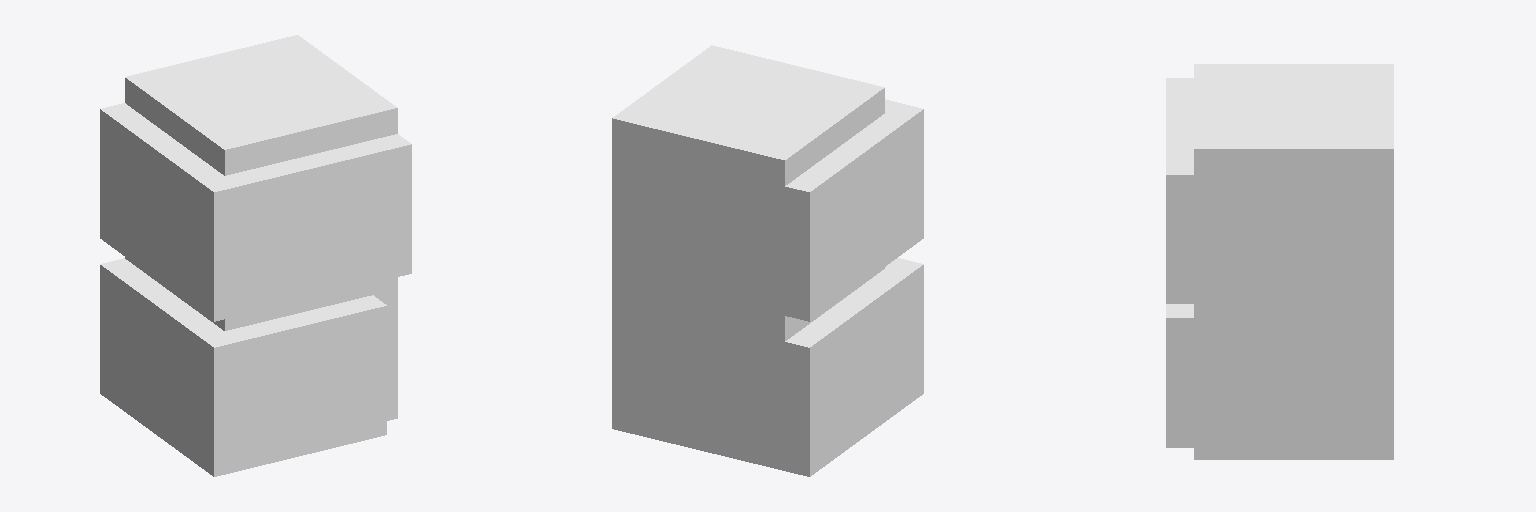
Rendered from stoneWallCornerTip-0.obj.
The picture shows the model from 3 angles: view 1: azimuth 30°, elevation 25°; view 2: azimuth 150°, elevation 25°; view 3: azimuth 270°, elevation 25°; orthographic projection.
Visible parts, largest first — view 1: object 1; view 2: object 1; view 3: object 1.
Boxes of the visible parts, box(x1,y1,x2,y2) form: object 1: box(100, 35, 411, 476); object 1: box(612, 45, 923, 476); object 1: box(1166, 64, 1393, 459).
Bounding box in the file's own units: 0.8 × 1.2 × 0.8.